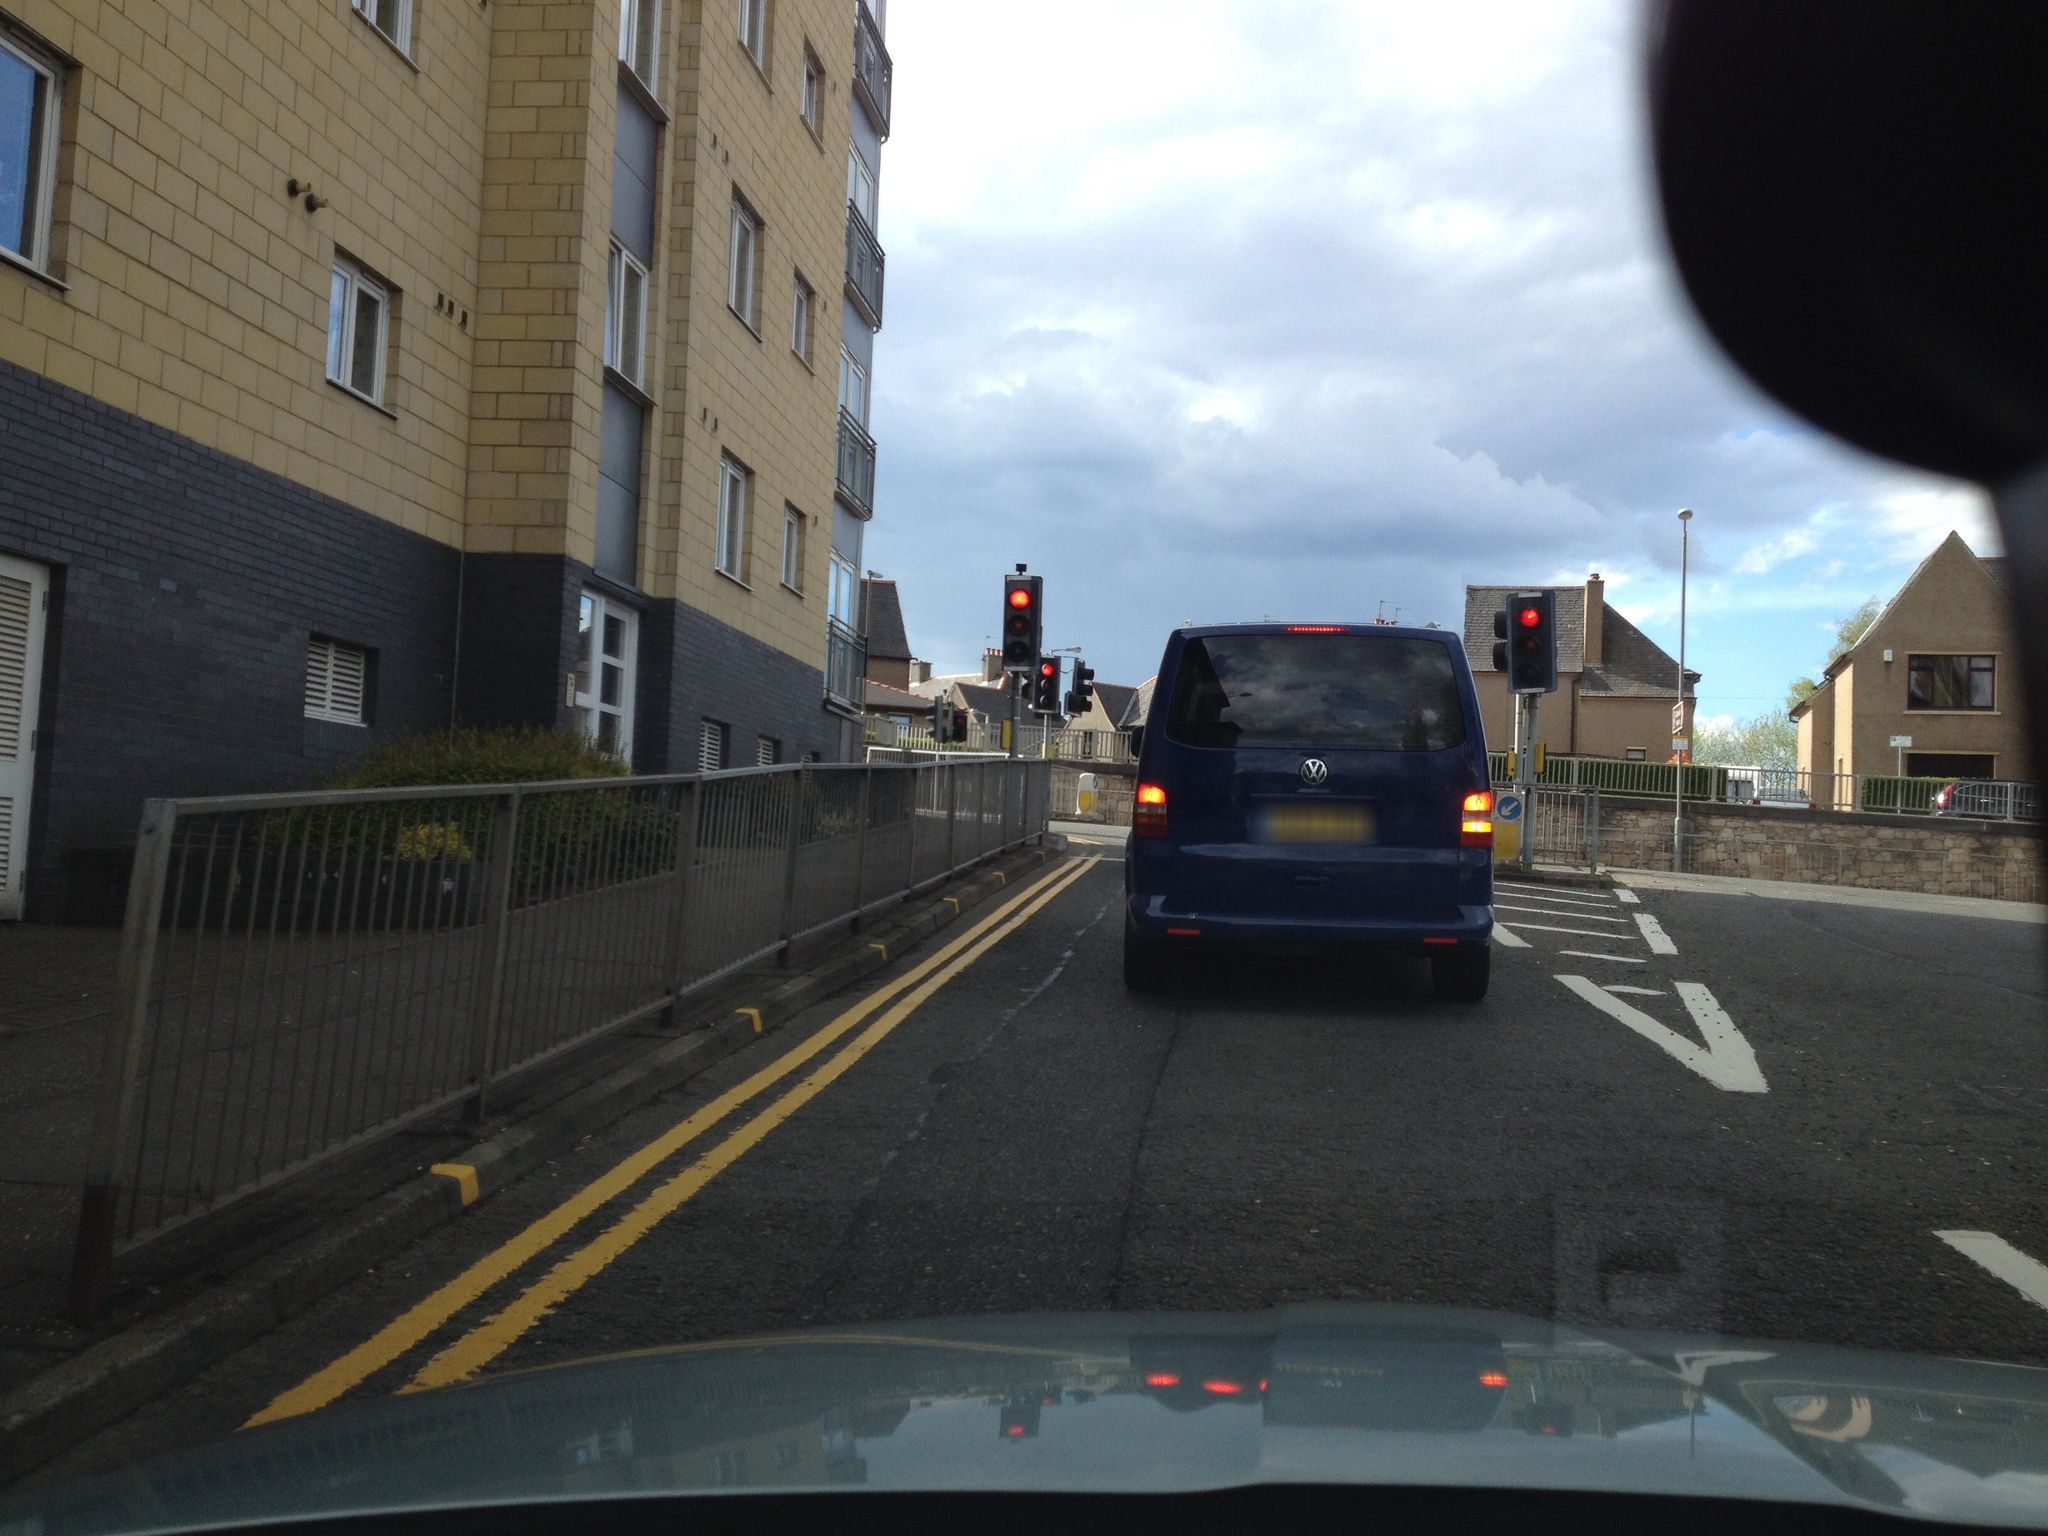car: (1127, 613, 1508, 994)
